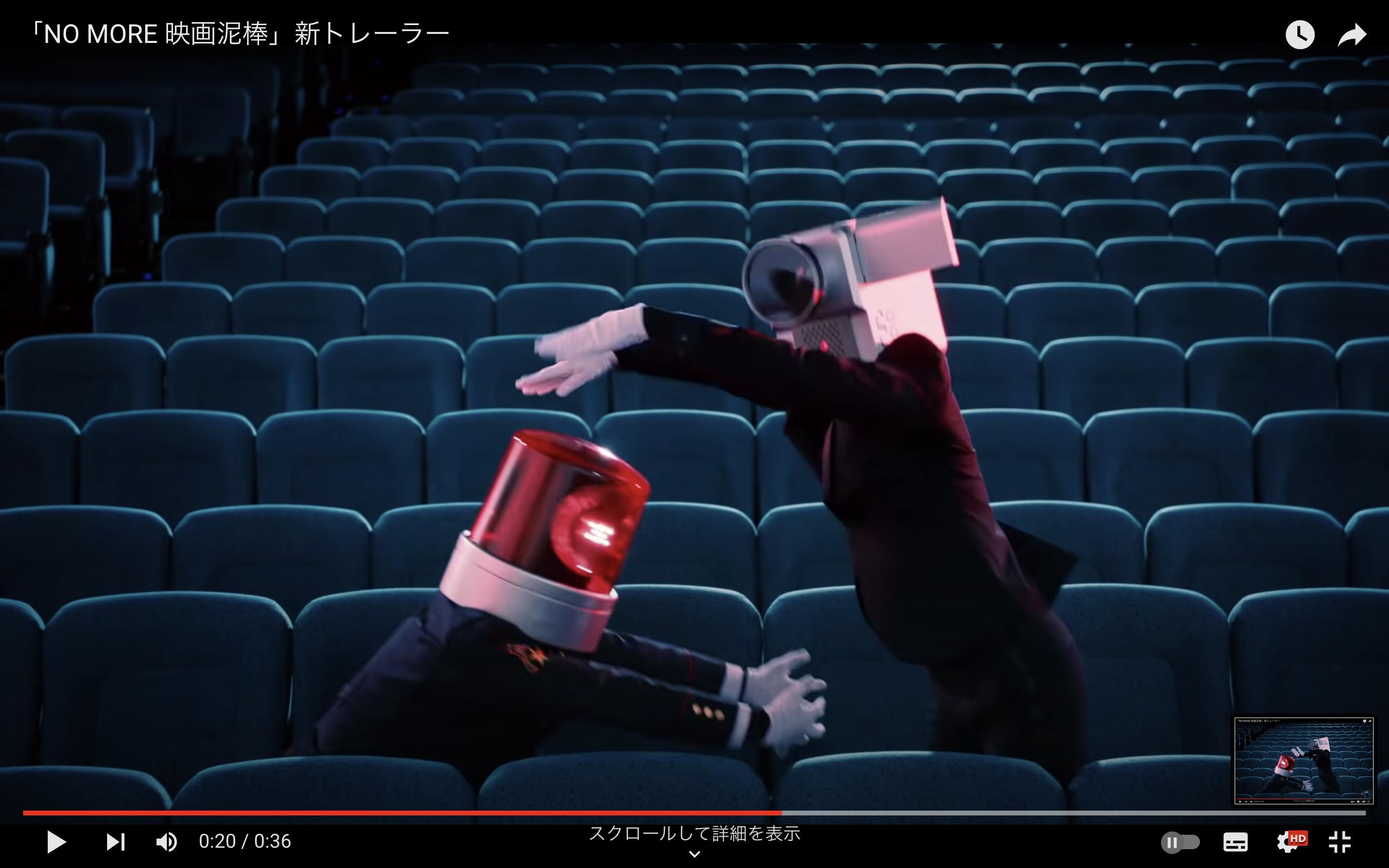no more kid: (730, 190, 981, 388)
